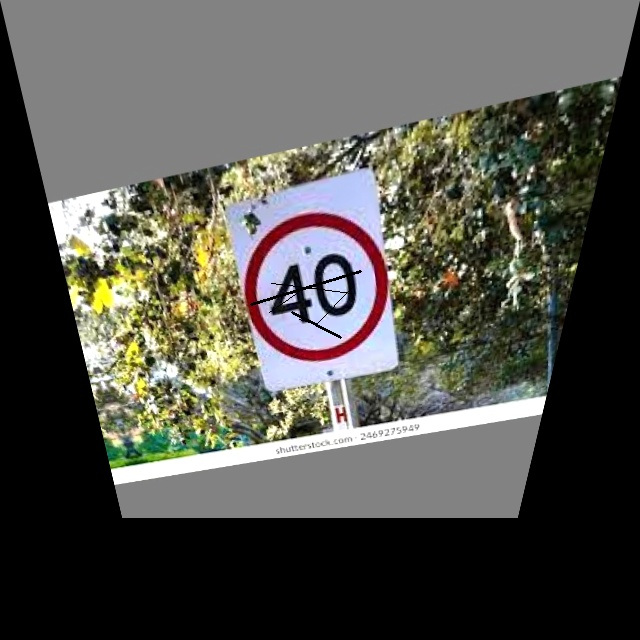Speed_Limit_40: (219, 197, 412, 374)
